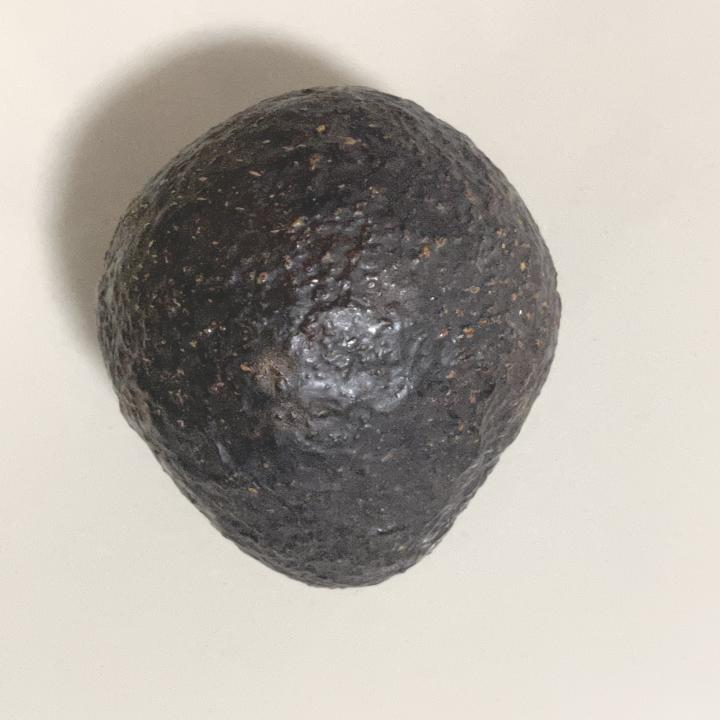Level3: (88, 78, 572, 604)
